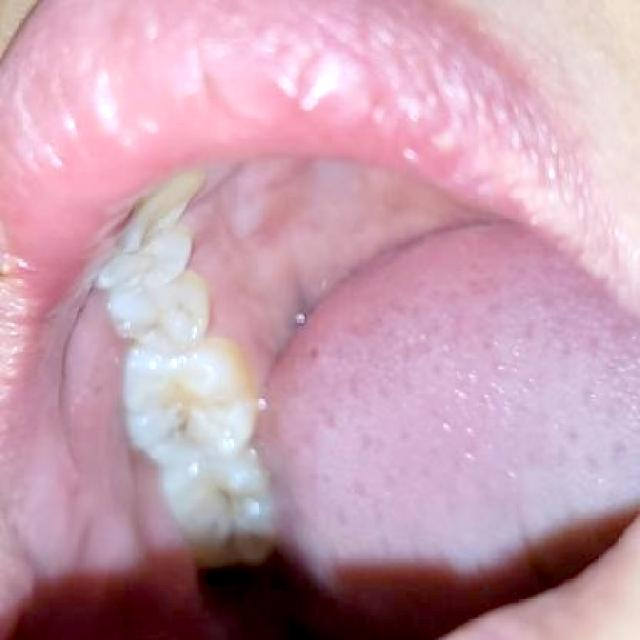Plaque: (201, 486, 260, 552), (155, 412, 211, 449)
